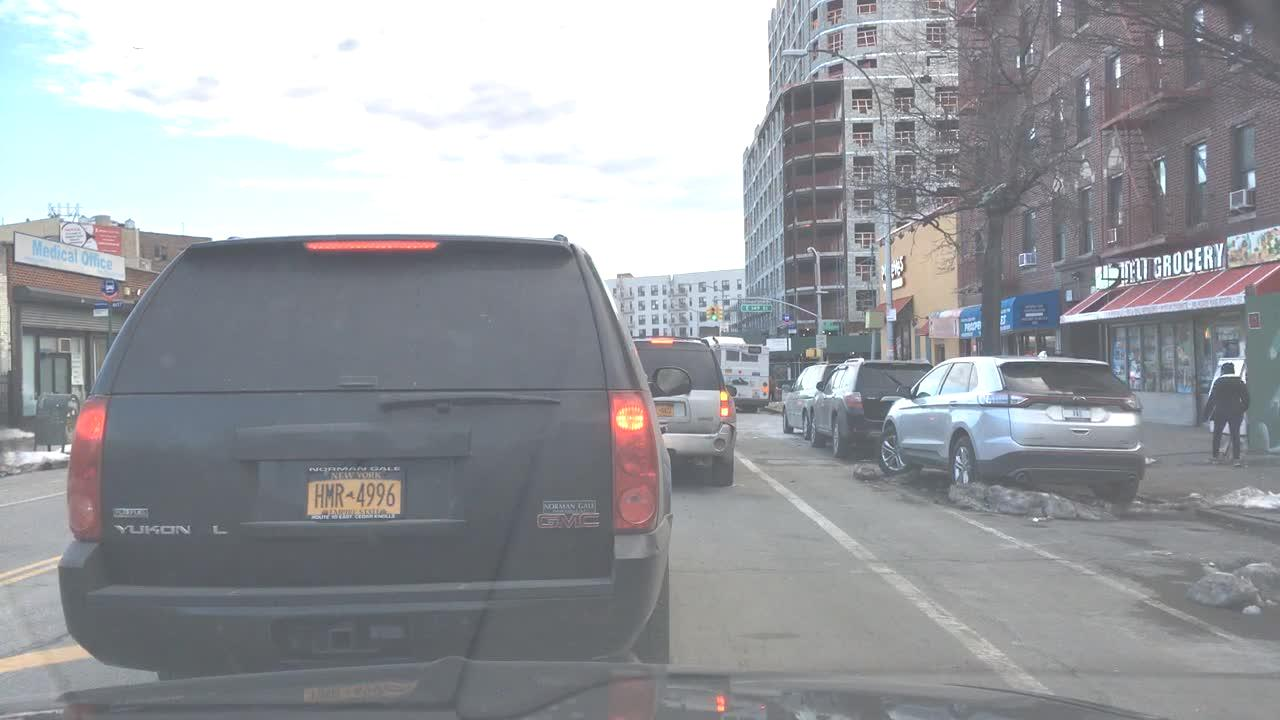GMC: (528, 510, 619, 539)
